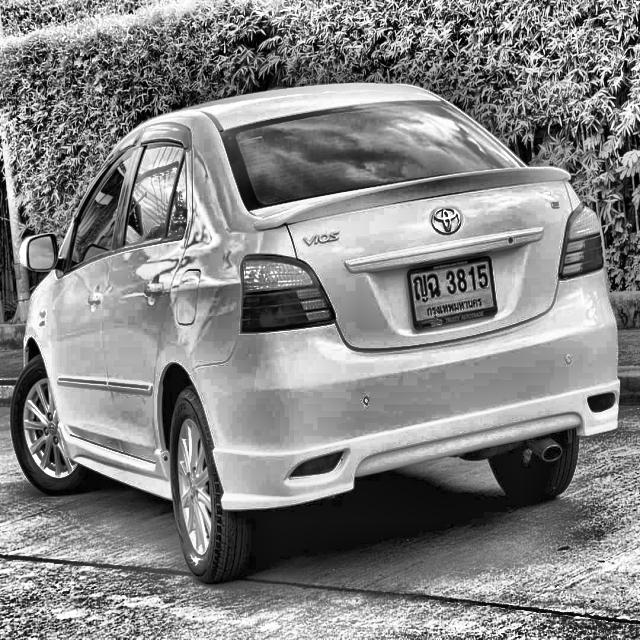license-plate: (404, 251, 500, 342)
